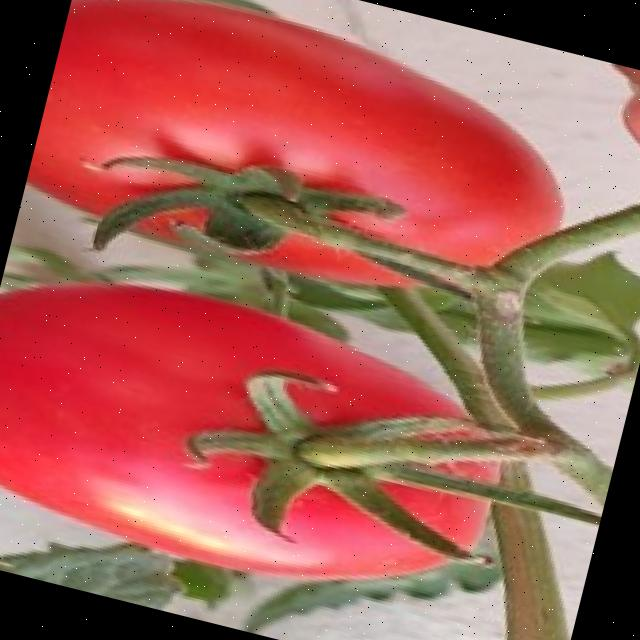tomato: (26, 0, 561, 265), (0, 287, 461, 579)
